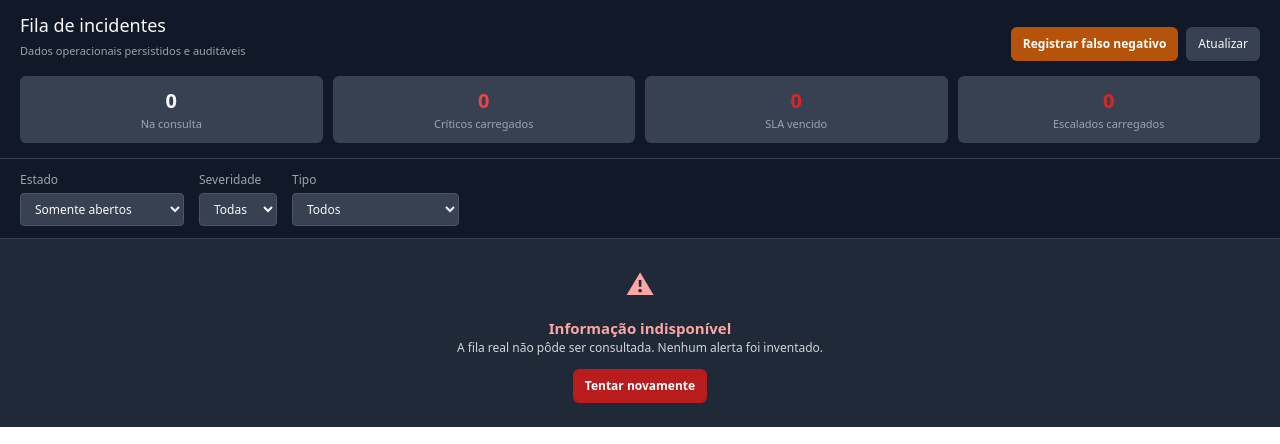
Test case: não inventa dados quando a API falha e permite tentar novamente
expect the message shows "Nenhum alerta foi inventado": met, box x1=457 y1=339 x2=823 y2=356
Step 1. Click the button "Tentar novamente" → (640, 386), box x1=573 y1=369 x2=707 y2=403
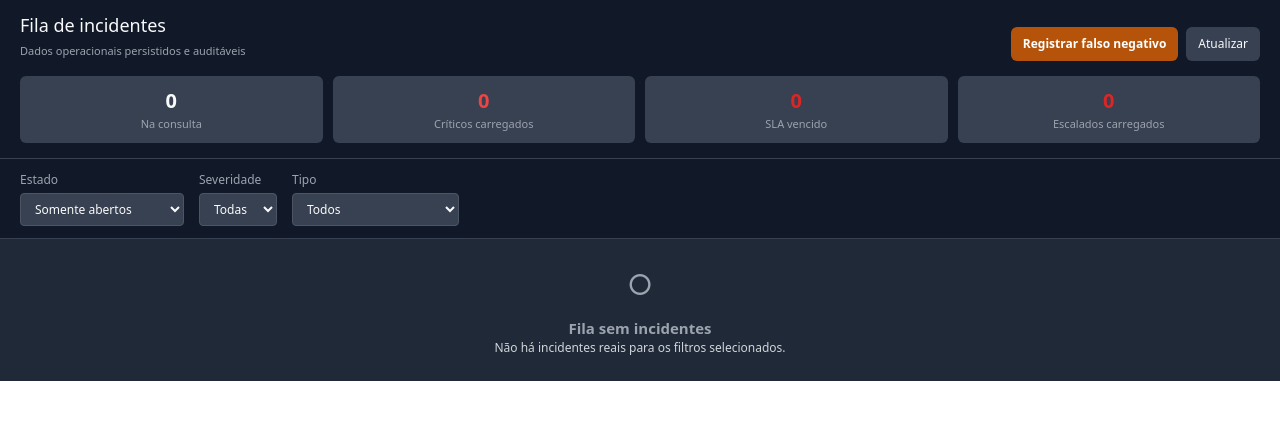
expect the text "Fila sem incidentes" is shown: met, box x1=568 y1=318 x2=712 y2=338
